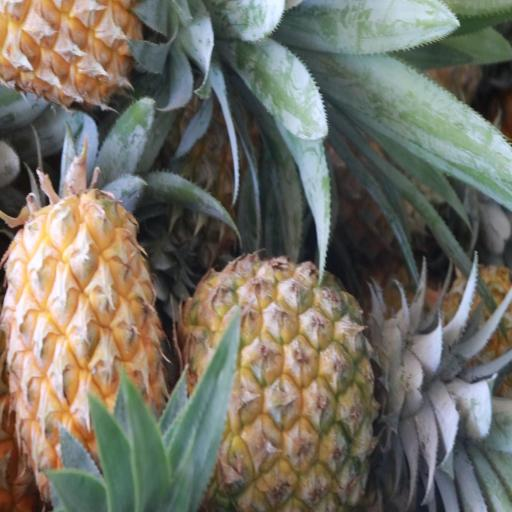Pineapple - v8 v1: (180, 260, 390, 512), (4, 194, 166, 509)
